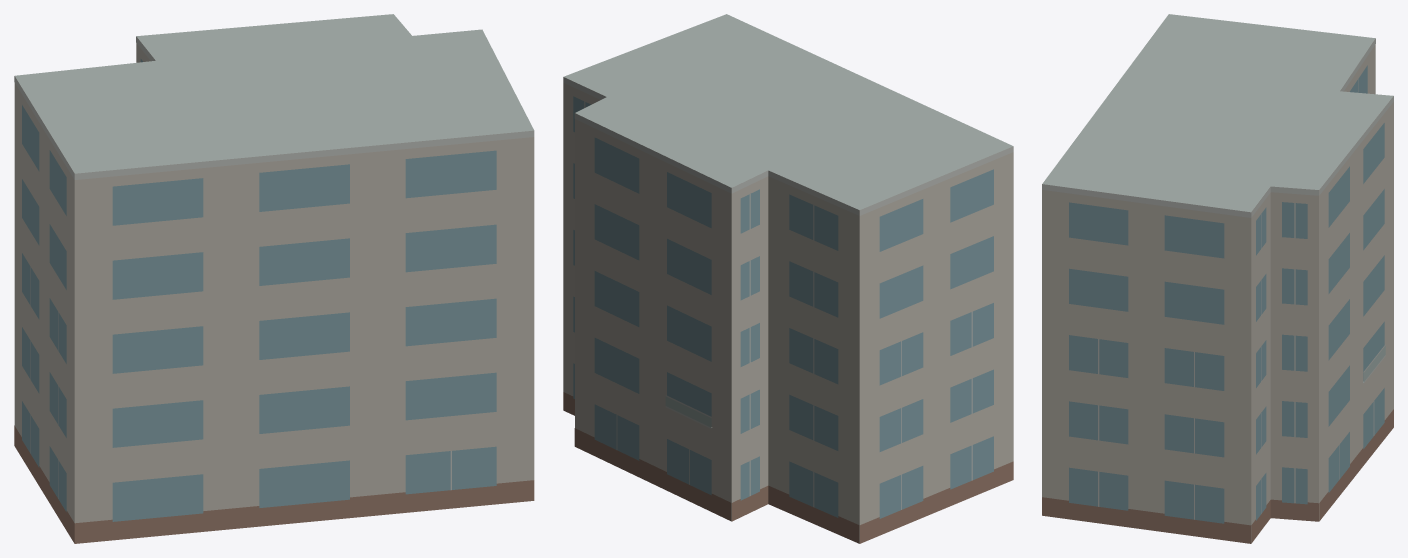
The model's file is survey-upis-32880585.glb.
The picture shows the model from 3 angles, left to right: view 1: azimuth 30°, elevation 25°; view 2: azimuth 150°, elevation 25°; view 3: azimuth 270°, elevation 25°; orthographic projection. The views are drawn at different scales.
Visible parts, largest first — view 1: survey-upis-32880585.tmp; view 2: survey-upis-32880585.tmp; view 3: survey-upis-32880585.tmp.
Part boxes in pixels (x1,y1,x2,y2): survey-upis-32880585.tmp: (14, 14, 534, 543); survey-upis-32880585.tmp: (563, 14, 1013, 543); survey-upis-32880585.tmp: (1042, 14, 1393, 543).
Size of the model in its own units: 18.09 by 14.1 by 13.56.
